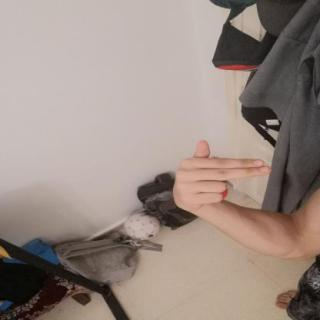GHAYN: (166, 136, 278, 216)
